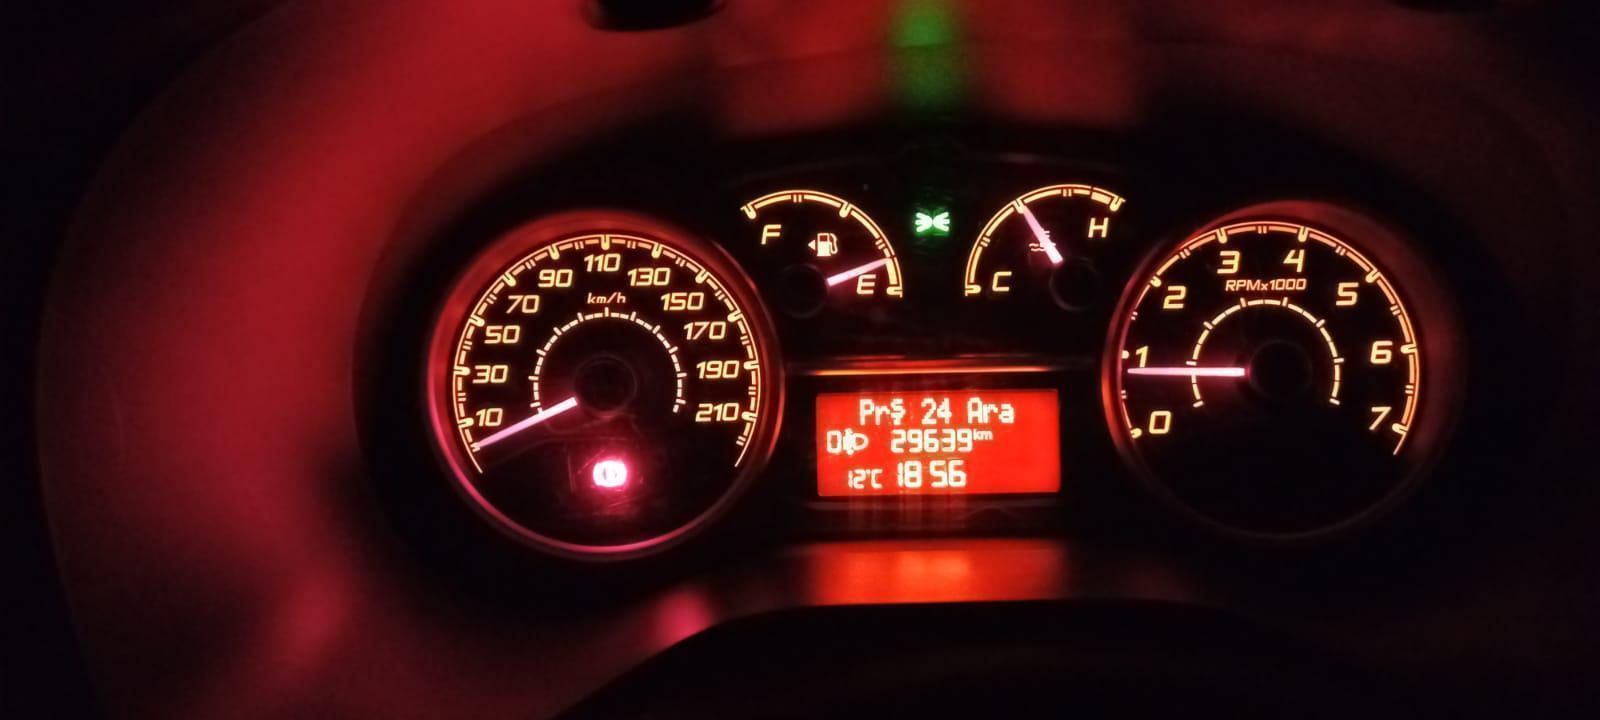0: (826, 428, 841, 452)
1: (896, 459, 903, 490), (847, 467, 852, 488)
2: (888, 427, 905, 454), (921, 396, 937, 425), (852, 467, 864, 488)
3: (941, 427, 956, 452)
4: (937, 395, 953, 425)
5: (928, 458, 948, 487)
6: (948, 458, 966, 487), (923, 427, 939, 453)
8: (904, 458, 922, 488)
9: (906, 427, 922, 453), (957, 427, 972, 452)
X: (858, 396, 873, 426), (890, 396, 905, 424), (968, 395, 981, 424), (982, 401, 997, 423), (999, 402, 1014, 423), (871, 465, 884, 490), (876, 403, 888, 425), (981, 429, 992, 440), (973, 427, 980, 440)
odometer: (810, 383, 1067, 500)
